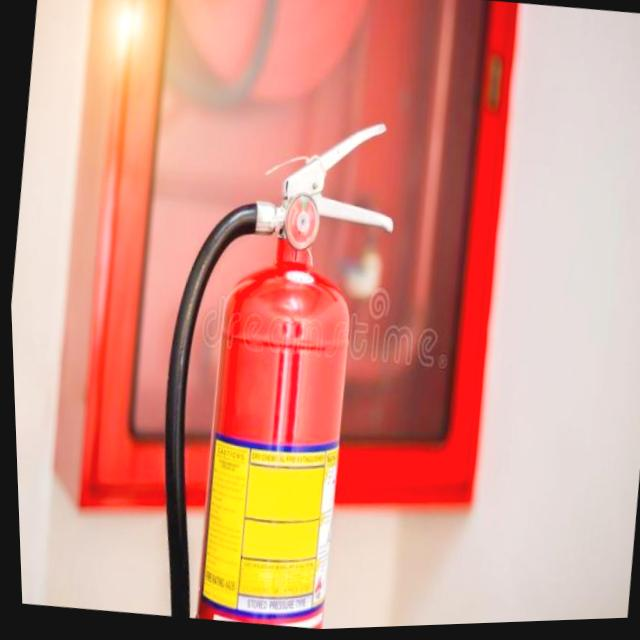FireExtinguisher: (121, 94, 418, 637)
